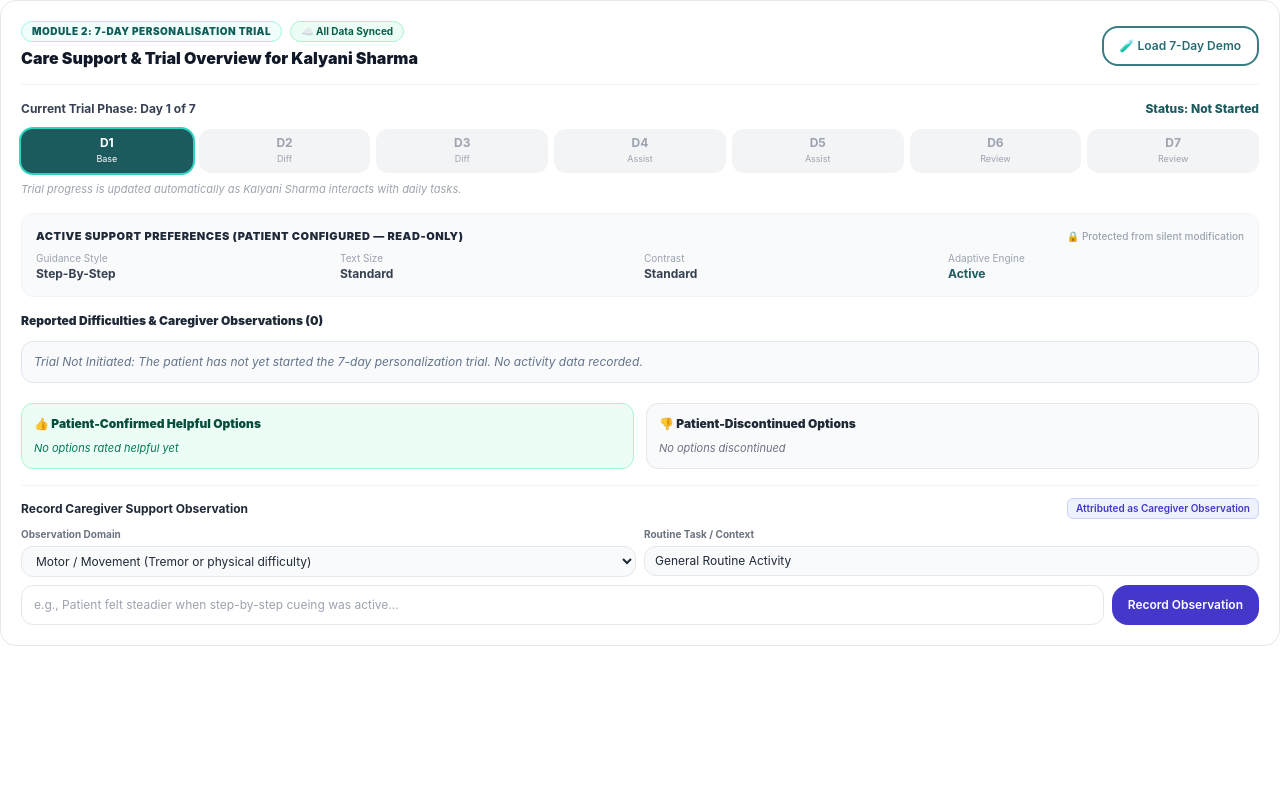
Scenario: Module 7: Caregiver Dashboard & Trial Overview Component › loads demo trial data and displays reported difficulties and helpful options
Click the button "🧪 Load 7-Day Demo" at (1180, 46), box [1102,26,1259,66]
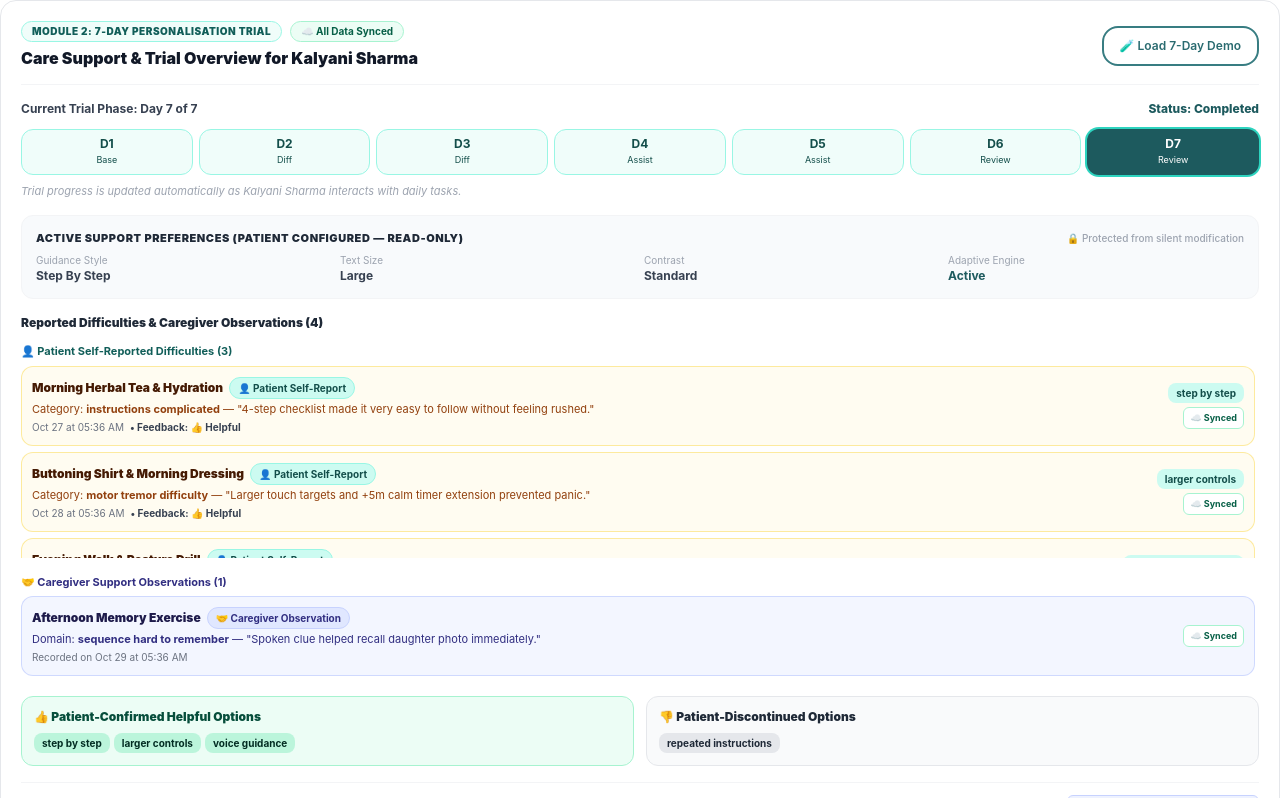
Expected: the text "Reported Difficulties & Caregiver Observations (4)" is shown, [21,315,323,331]
Expected: the text "👤 Patient Self-Reported Difficulties (3)" is shown, [21,343,232,360]
Expected: the text "🤝 Caregiver Support Observations (1)" is shown, [21,574,227,590]
